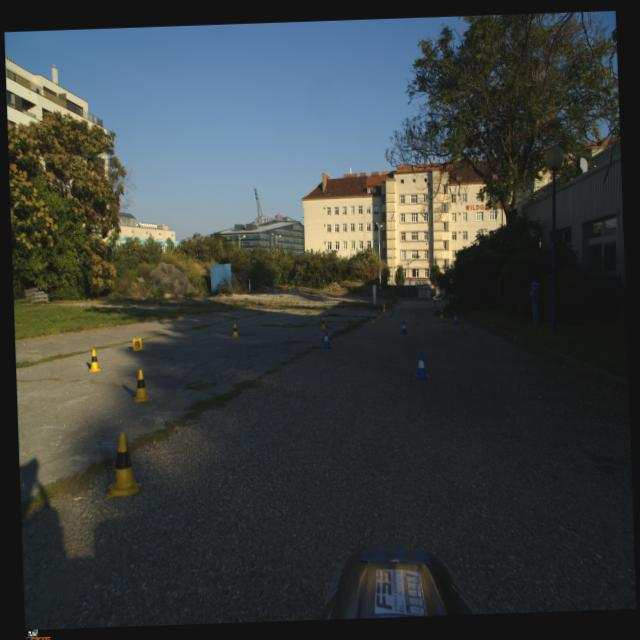blue_cone: (412, 351, 429, 380), (321, 330, 332, 349), (400, 320, 408, 334), (452, 314, 458, 324)
large_orange_cone: (381, 302, 386, 314), (433, 302, 437, 314)
yellow_cone: (104, 431, 142, 497), (132, 368, 152, 402), (88, 348, 101, 372), (132, 338, 141, 350), (232, 323, 238, 337), (319, 316, 326, 328), (371, 313, 376, 323), (376, 310, 382, 318), (439, 309, 444, 318)
